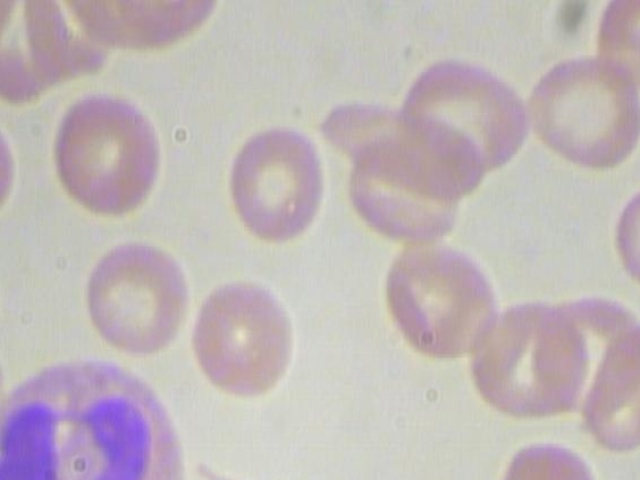RBC: (388, 46, 535, 193), (351, 235, 515, 365), (305, 91, 490, 206), (39, 87, 167, 228), (465, 283, 595, 421), (183, 268, 308, 405), (520, 41, 640, 181), (79, 230, 190, 364), (218, 118, 328, 252), (101, 0, 229, 61), (490, 427, 606, 480)
WBC: (0, 353, 191, 480)
